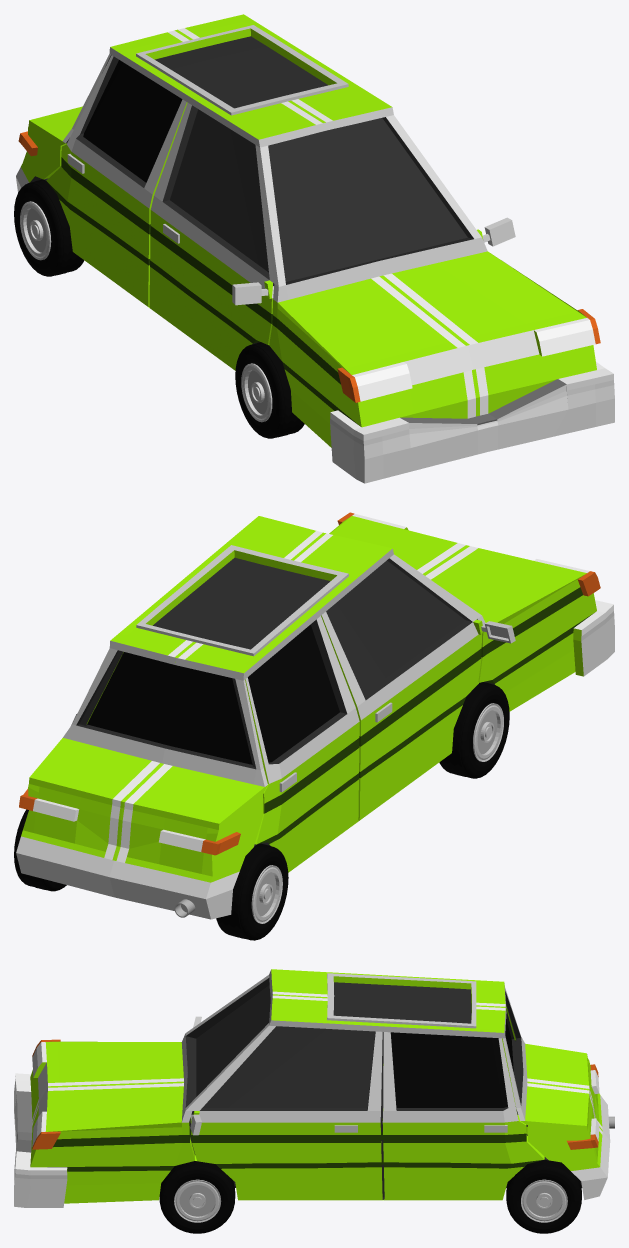
Rendered from CR-CAR-4A.fbx.
The picture shows the model from 3 angles, top to bottom: view 1: azimuth 30°, elevation 25°; view 2: azimuth 150°, elevation 25°; view 3: azimuth 270°, elevation 25°; orthographic projection. The views are drawn at different scales.
Parts seen in each view (by area): view 1: BODY, WHEEL.004, WHEEL.001; view 2: BODY, WHEEL.004, WHEEL.001, WHEEL.002; view 3: BODY, WHEEL.002, WHEEL.003.
Boxes of the visible parts, <box> form: BODY: <box>16,14,614,483</box>; WHEEL.004: <box>14,179,84,276</box>; WHEEL.001: <box>235,342,304,438</box>; BODY: <box>16,512,614,919</box>; WHEEL.004: <box>216,843,288,940</box>; WHEEL.001: <box>439,682,509,778</box>; WHEEL.002: <box>14,809,66,891</box>; BODY: <box>14,969,610,1207</box>; WHEEL.002: <box>506,1159,581,1233</box>; WHEEL.003: <box>159,1161,235,1233</box>.
Bounding box in the file's own units: 131 × 112 × 310.
